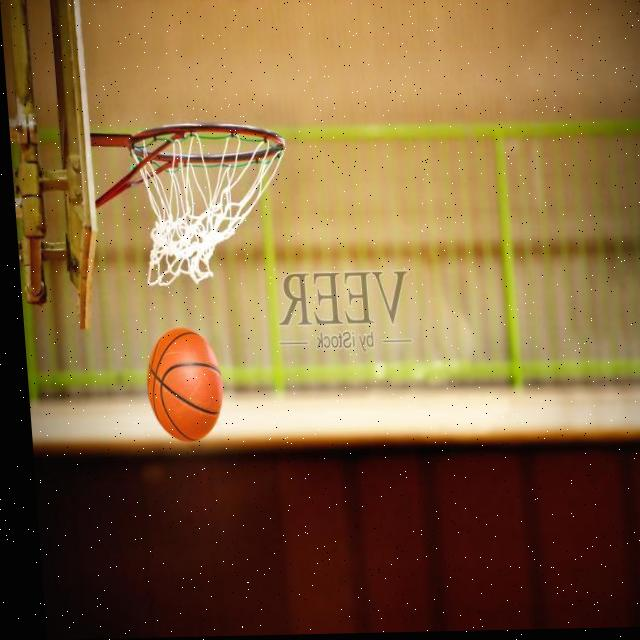hoop: (110, 127, 312, 278)
